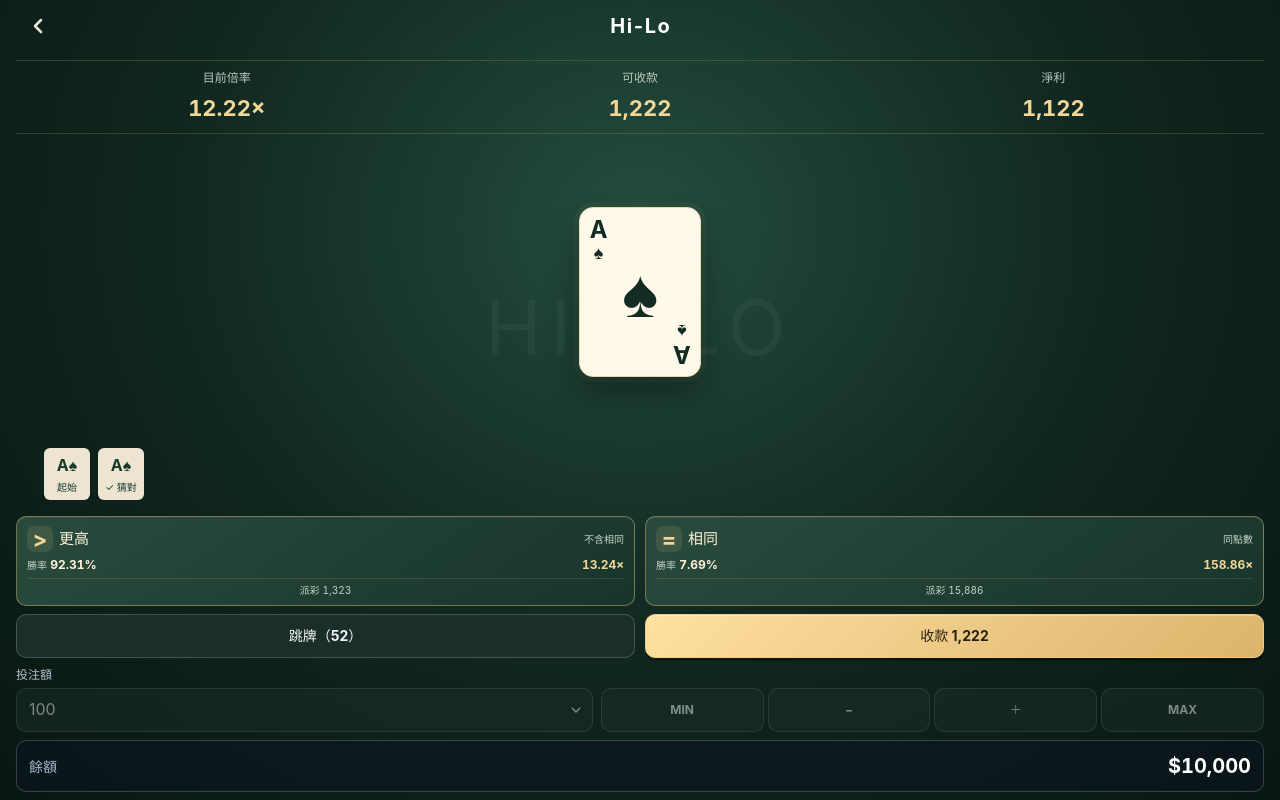
Test: Hi-Lo win celebration › cleans the celebration on unmount change
Step 1. Click the button "收款 1,222" → [954, 636], box [645, 614, 1264, 658]
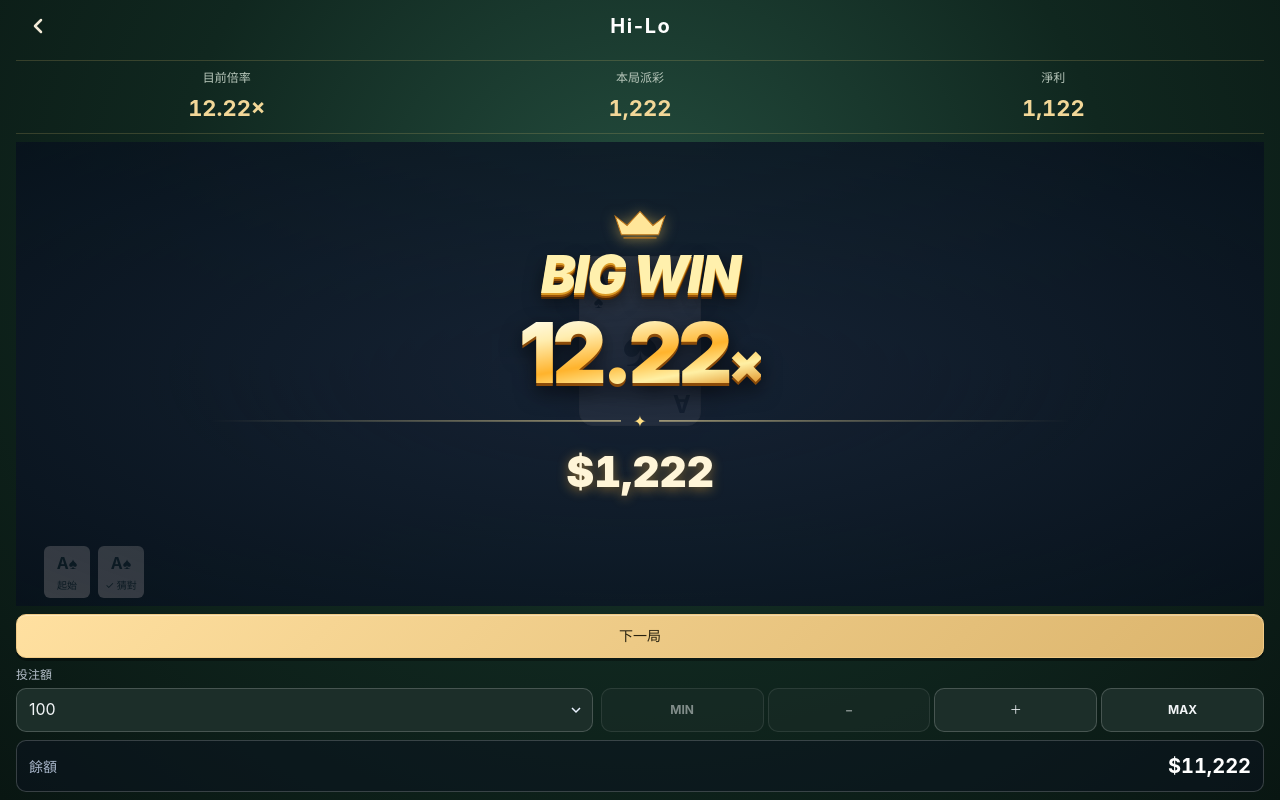
Expected: the element with class "hilo-win" is shown, [16, 142, 1264, 606]
